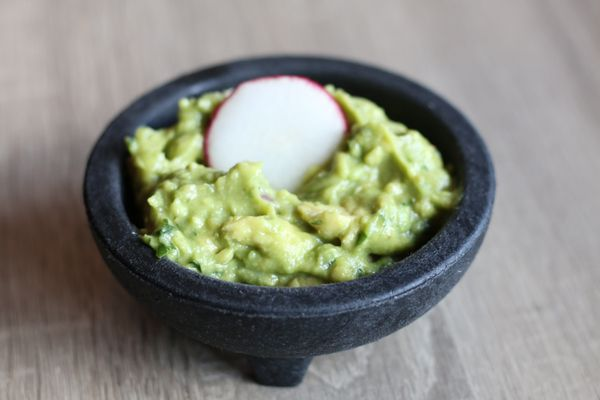sushi: (88, 59, 496, 385)
